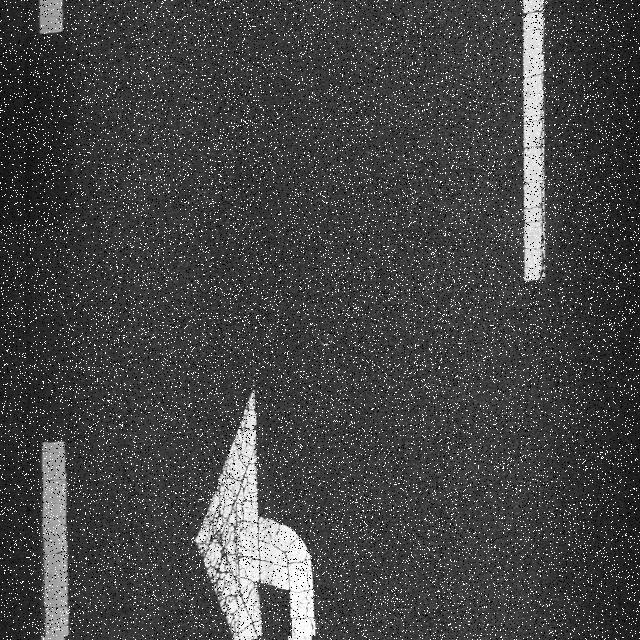left: (35, 370, 344, 636)
